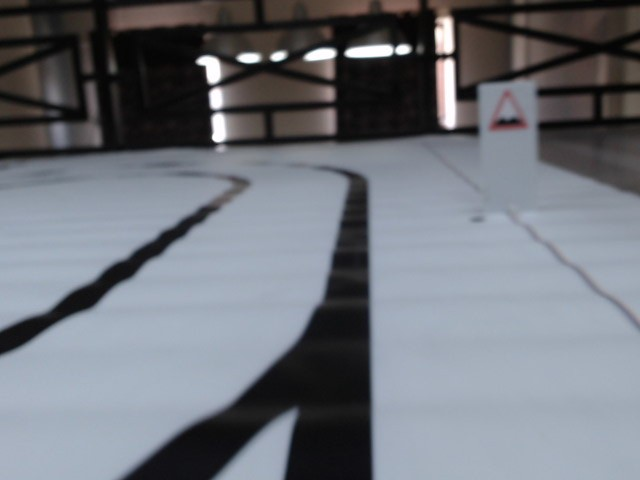Nerov: (485, 88, 529, 134)
